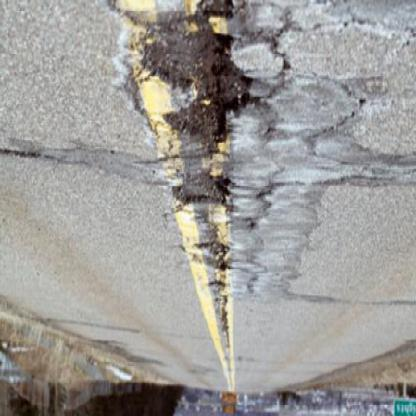pothole: (148, 3, 256, 147), (172, 175, 235, 211)
